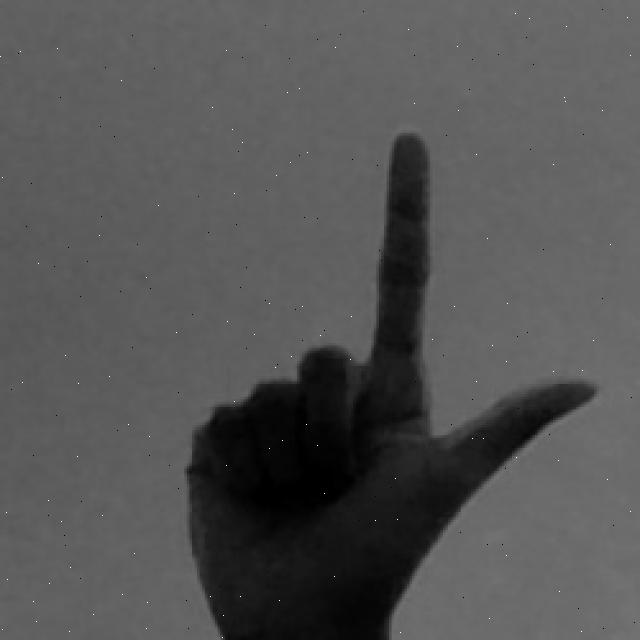L: (182, 128, 602, 640)
